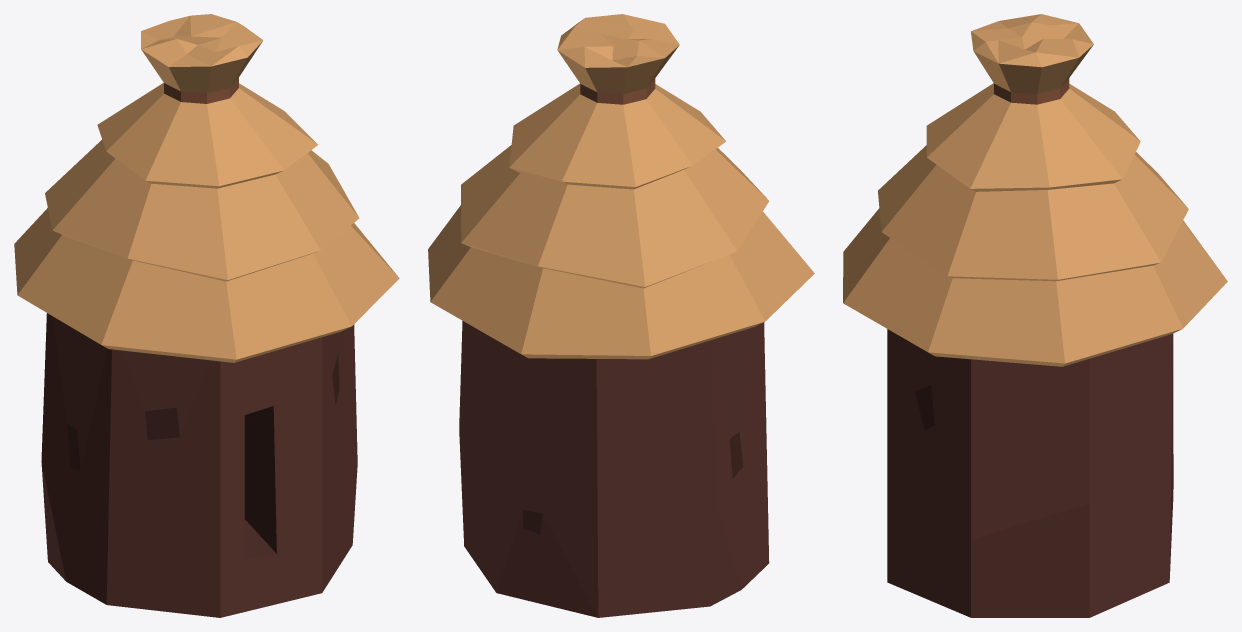
Rendered from beehive.fbx.
3 views of the same model, side by side, from view 1: azimuth 30°, elevation 25°; view 2: azimuth 150°, elevation 25°; view 3: azimuth 270°, elevation 25° (orthographic).
Parts seen in each view (by area): view 1: beehive; view 2: beehive; view 3: beehive.
Part boxes in pixels (x1,y1,x2,y2): beehive: [14, 14, 399, 617]; beehive: [428, 14, 814, 617]; beehive: [843, 14, 1227, 617].
Bounding box in the file's own units: 58.2 × 85.88 × 57.15.
